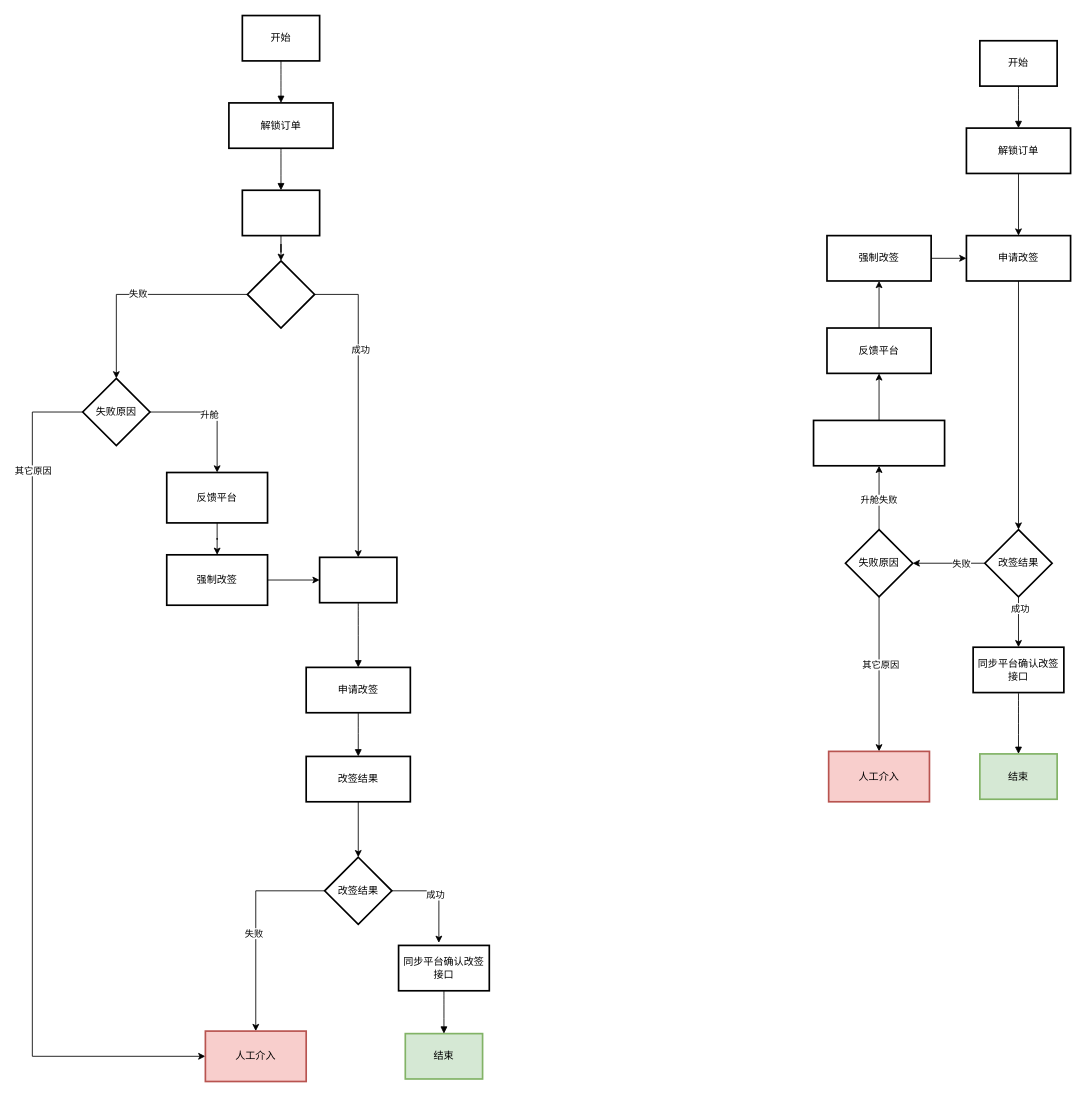
Image size: 1086x1096. Some labels were removed from this diagram. The shapes that lost their labels are listed below. From the top down, each one's centre as x and y in pixels, then its label:
At (x=280, y=212): "核价".
At (x=280, y=294): "结果".
At (x=878, y=442): "改签升舱失败".
At (x=357, y=579): "开卡".
